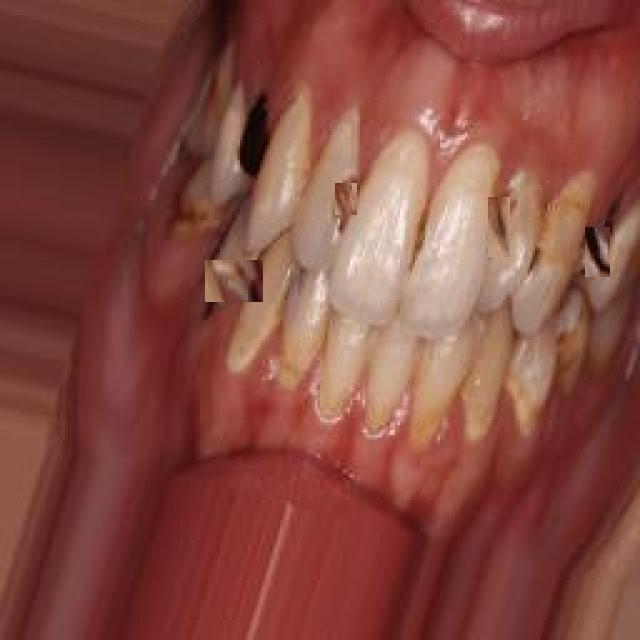caries: (205, 260, 263, 302), (238, 105, 273, 165), (488, 198, 510, 258), (585, 228, 610, 278), (413, 215, 425, 275), (335, 183, 357, 215)
